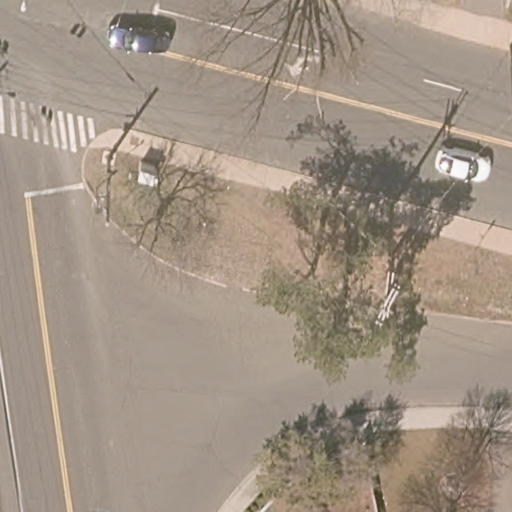DT: (374, 194, 402, 327), (91, 155, 119, 228)
